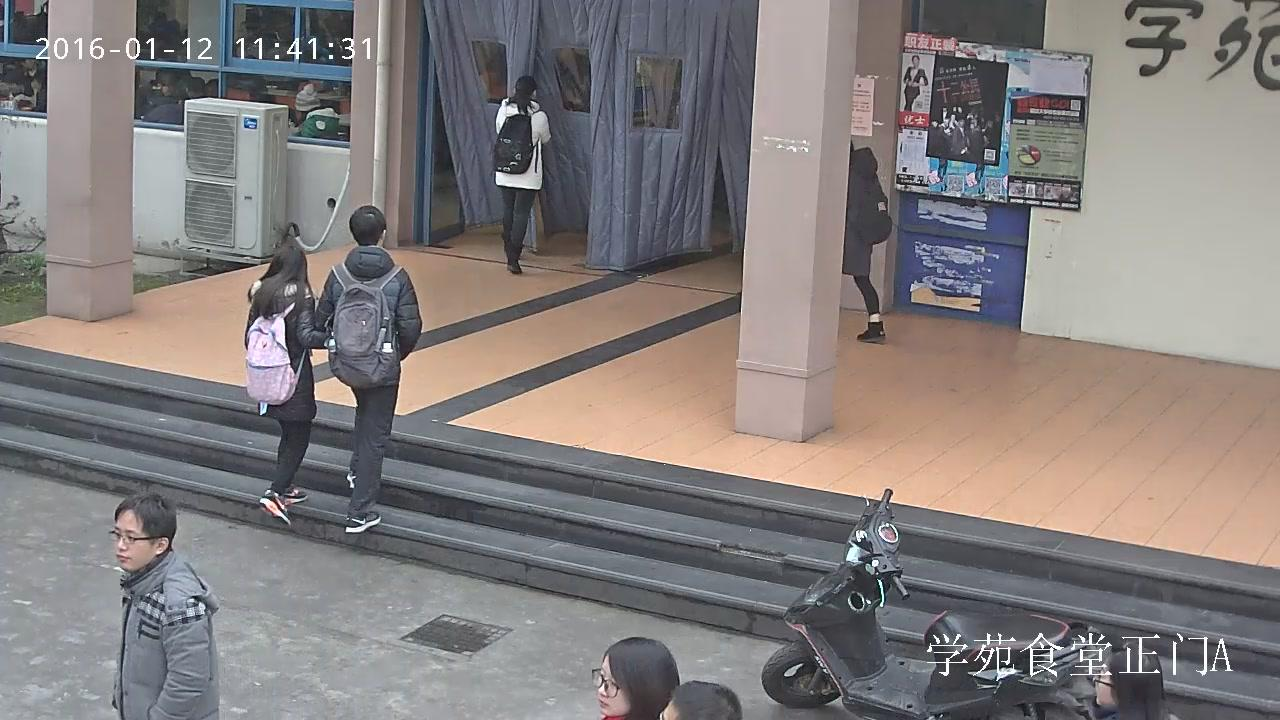person: (316, 205, 422, 533), (106, 491, 221, 718), (243, 242, 331, 527), (492, 75, 551, 275), (841, 141, 893, 341), (141, 70, 193, 125), (295, 81, 339, 137), (902, 54, 928, 111)
